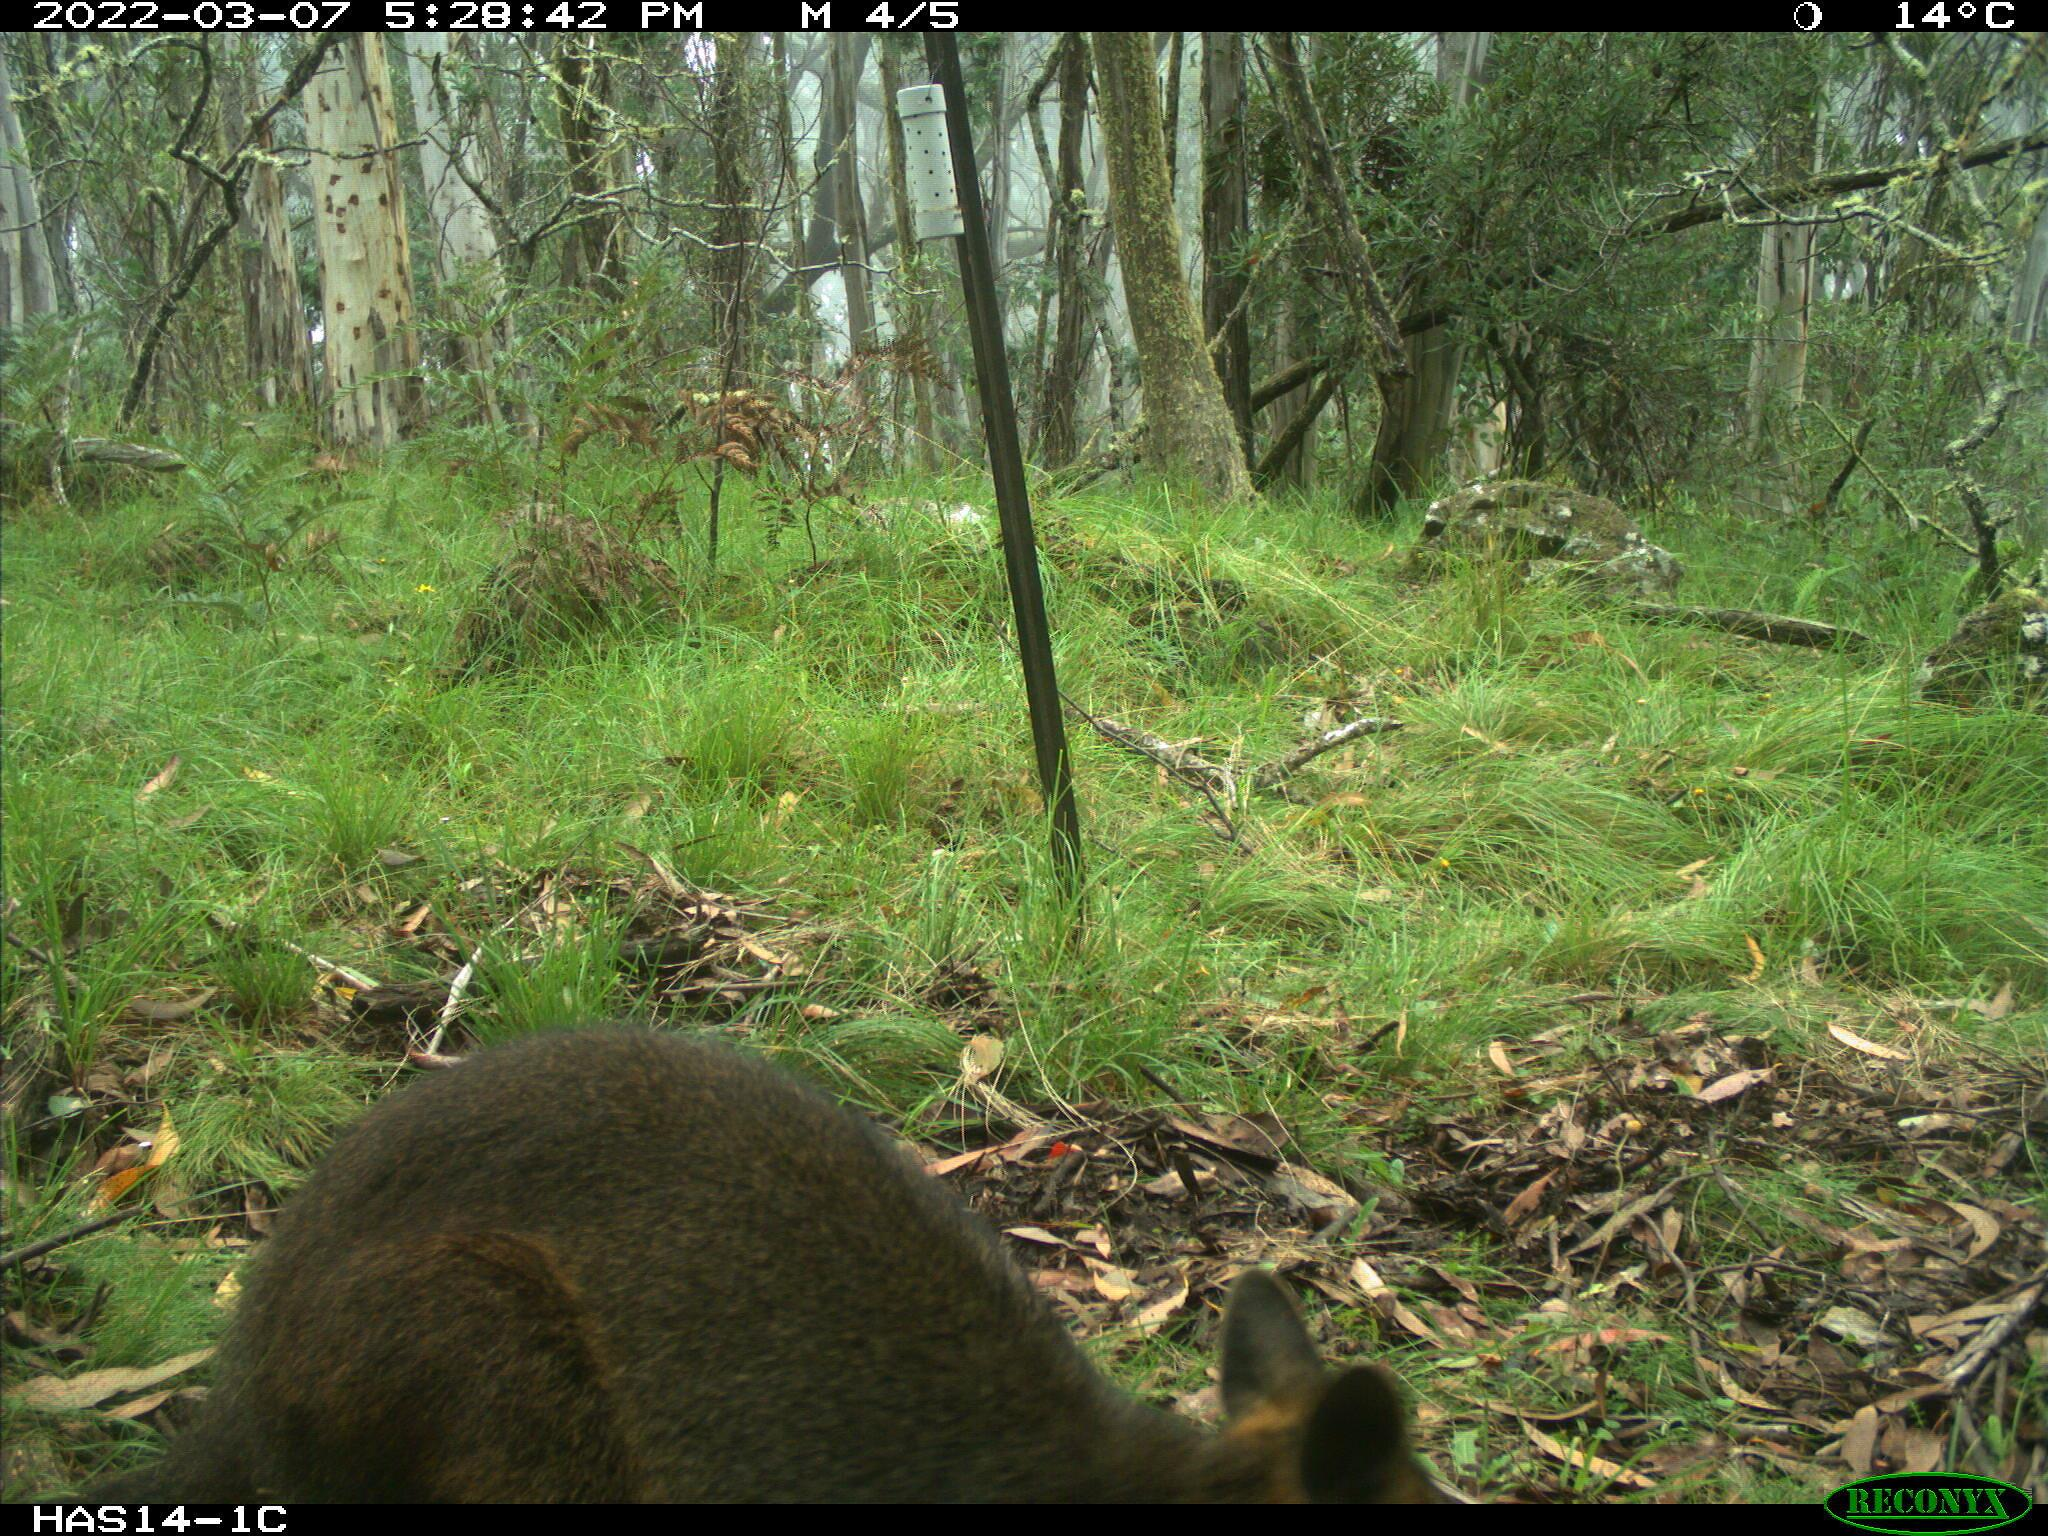Swamp wallaby: (23, 1005, 1447, 1491)
